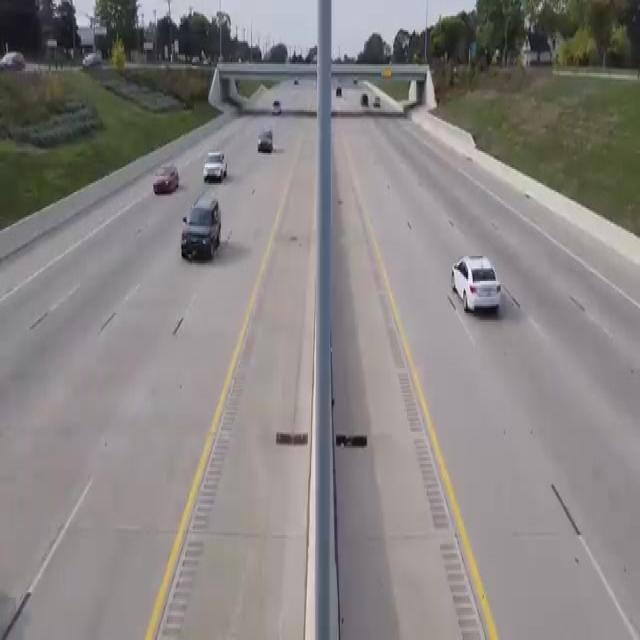car: (178, 199, 237, 268), (449, 252, 513, 312), (150, 157, 178, 201), (203, 148, 228, 186), (252, 128, 277, 162), (268, 97, 288, 120)
